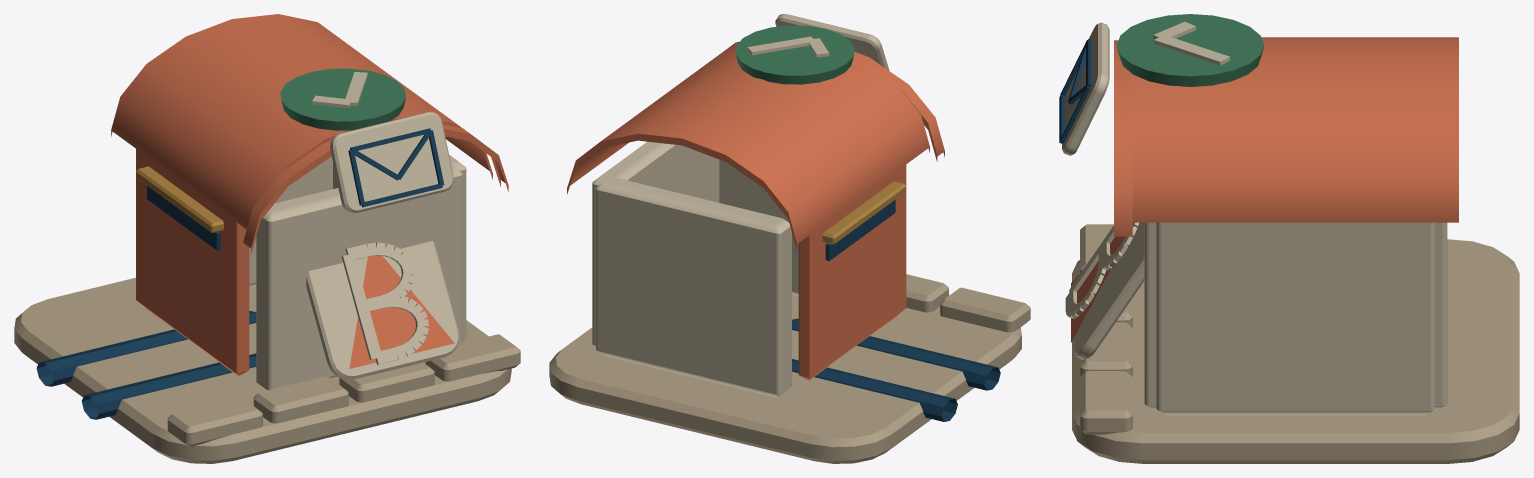
Rendered from boite_b.glb.
3 renders of one model, left to right at view 1: azimuth 30°, elevation 25°; view 2: azimuth 150°, elevation 25°; view 3: azimuth 270°, elevation 25°, orthographic. The views are drawn at different scales.
Visible parts, largest first — view 1: Batch_Limestone, Batch_EnamelB2, Batch_Porcelain2, Batch_EnamelB, Batch_PorcelainSign, Batch_Success, Batch_PaintedMetal2, Batch_SignalInk, Batch_AddressB, _MeshInstance3D_181, Batch_BrassDetail, Batch_PaintedMetal (+1 smaller); view 2: Batch_Porcelain2, Batch_Limestone, Batch_EnamelB2, Batch_EnamelB, Batch_Success, Batch_PaintedMetal2, Batch_BrassDetail, Batch_PaintedMetal, Batch_Porcelain; view 3: Batch_Porcelain2, Batch_EnamelB2, Batch_Limestone, Batch_Success, Batch_PorcelainSign, Batch_SignalInk, _MeshInstance3D_181, Batch_Porcelain, Batch_AddressB.
Boxes of the visible parts, left/top/right/bottom form: Batch_Limestone: left=14, top=277, right=520, bottom=463; Batch_EnamelB2: left=111, top=14, right=508, bottom=254; Batch_Porcelain2: left=249, top=112, right=466, bottom=390; Batch_EnamelB: left=136, top=149, right=249, bottom=376; Batch_PorcelainSign: left=306, top=241, right=459, bottom=379; Batch_Success: left=280, top=68, right=405, bottom=130; Batch_PaintedMetal2: left=36, top=311, right=256, bottom=419; Batch_SignalInk: left=341, top=242, right=428, bottom=364; Batch_AddressB: left=349, top=242, right=454, bottom=368; _MeshInstance3D_181: left=348, top=128, right=444, bottom=207; Batch_BrassDetail: left=136, top=166, right=223, bottom=233; Batch_PaintedMetal: left=147, top=185, right=220, bottom=250; Batch_Porcelain2: left=592, top=14, right=889, bottom=397; Batch_Limestone: left=549, top=274, right=1030, bottom=463; Batch_EnamelB2: left=567, top=41, right=944, bottom=250; Batch_EnamelB: left=798, top=164, right=906, bottom=380; Batch_Success: left=735, top=25, right=854, bottom=84; Batch_PaintedMetal2: left=792, top=318, right=1000, bottom=421; Batch_BrassDetail: left=822, top=181, right=906, bottom=244; Batch_PaintedMetal: left=825, top=200, right=895, bottom=261; Batch_Porcelain: left=747, top=36, right=829, bottom=57; Batch_Porcelain2: left=1062, top=22, right=1447, bottom=415; Batch_EnamelB2: left=1114, top=37, right=1458, bottom=236; Batch_Limestone: left=1072, top=224, right=1519, bottom=463; Batch_Success: left=1117, top=14, right=1263, bottom=86; Batch_PorcelainSign: left=1074, top=222, right=1144, bottom=359; Batch_SignalInk: left=1065, top=222, right=1138, bottom=318; _MeshInstance3D_181: left=1059, top=39, right=1091, bottom=143; Batch_Porcelain: left=1153, top=21, right=1229, bottom=65; Batch_AddressB: left=1071, top=236, right=1124, bottom=342.
Bounding box in the file's own units: 0.95 × 0.726 × 0.8741.
